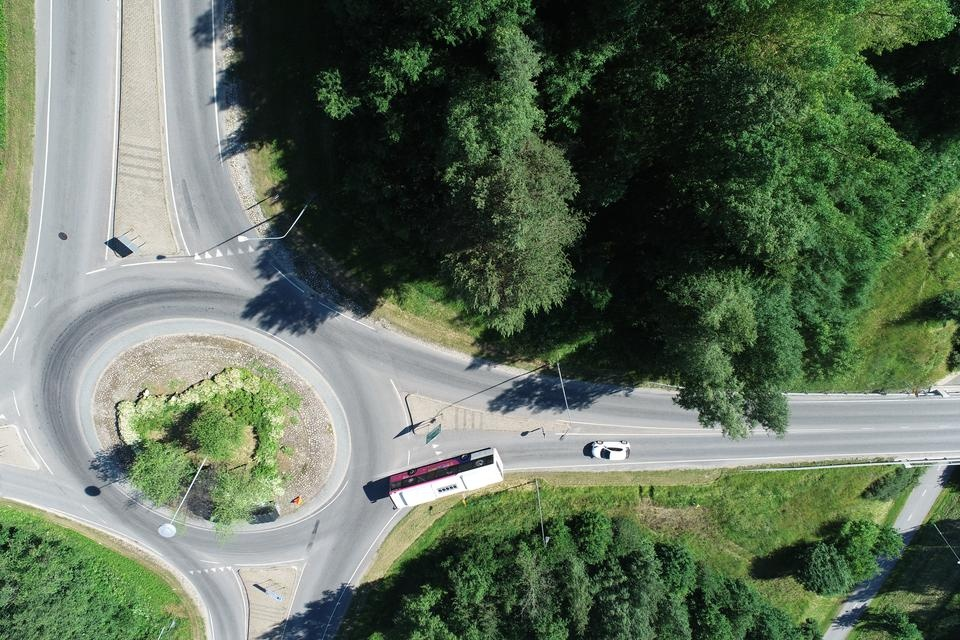roundabout: (0, 217, 489, 640)
